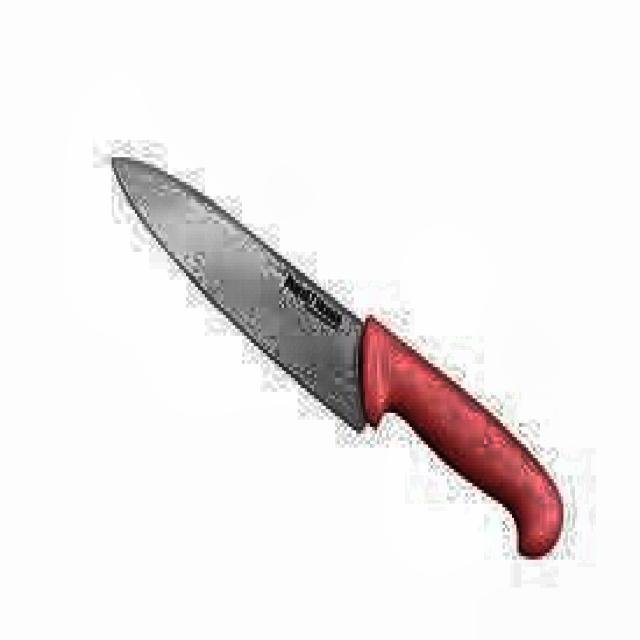knife: (113, 160, 567, 562)
